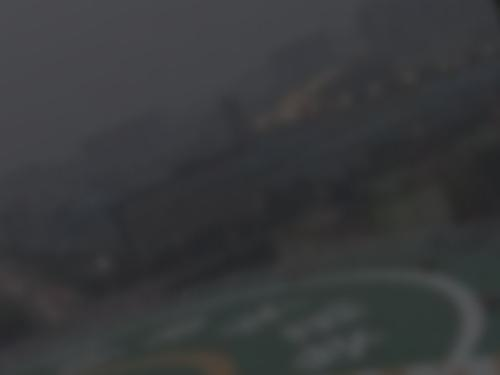Apron: (76, 349, 238, 373)
